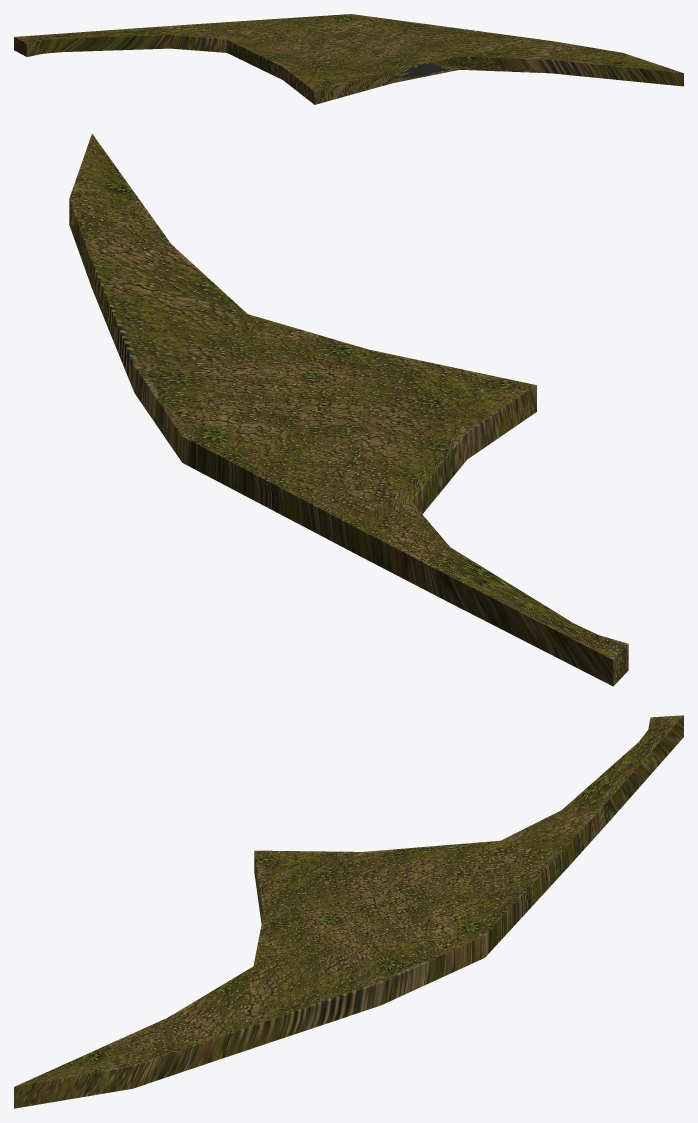
File: veggiefloor.fbx
3 views of the same model, one above another, from view 1: azimuth 30°, elevation 25°; view 2: azimuth 150°, elevation 25°; view 3: azimuth 270°, elevation 25° (orthographic). The views are drawn at different scales.
Parts seen in each view (by area): view 1: PolyShape; view 2: PolyShape; view 3: PolyShape.
Boxes of the visible parts, bbox=[...] form: PolyShape: bbox=[14, 14, 683, 104]; PolyShape: bbox=[69, 133, 628, 686]; PolyShape: bbox=[14, 715, 683, 1108].
Bounding box in the file's own units: 108203 × 3401 × 82436.
